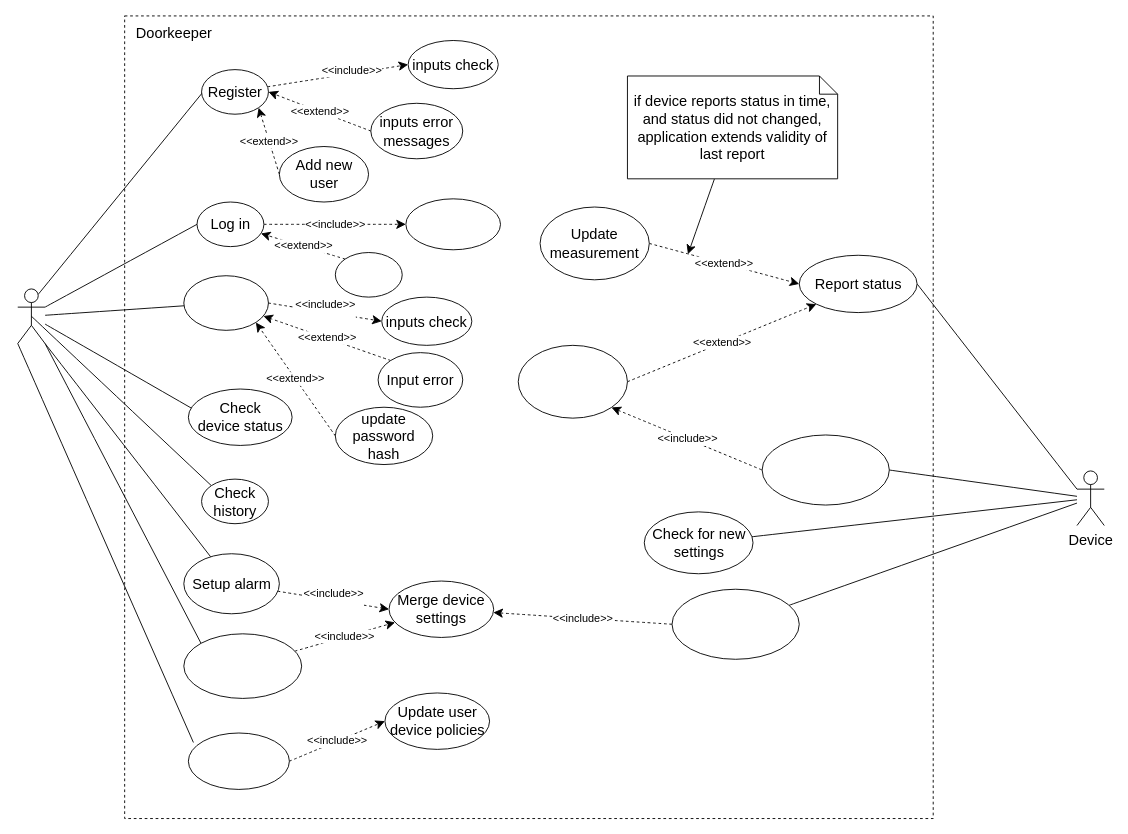
Some shapes in this 1128 by 834 pixel diagram are drawn without their labels. Here are the shapes that lost their labels. From the top down, the centre of each, then its label:
At pixel 452 224: "try to create session".
At pixel 368 274: "login error".
At pixel 31 316: "User".
At pixel 225 302: "Change password".
At pixel 572 381: "Insert measurement".
At pixel 825 469: "Report measurement".
At pixel 735 623: "Report local settings change".
At pixel 242 665: "Setup device".
At pixel 238 760: "Share device data".
